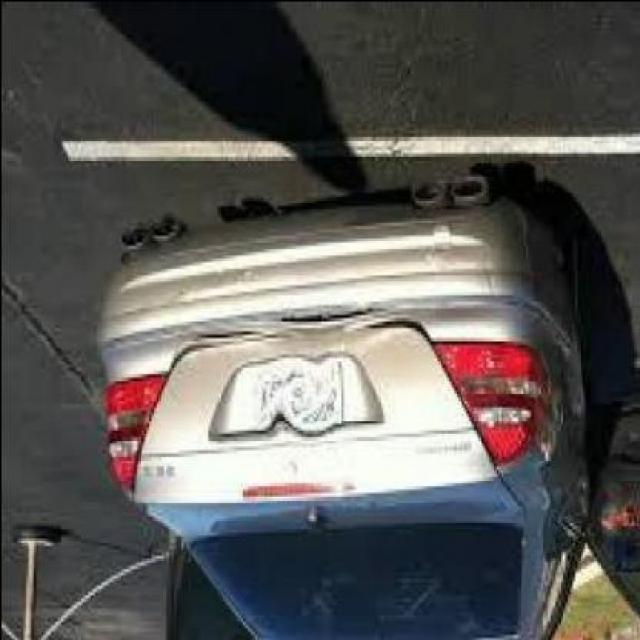damage: (256, 289, 378, 445), (424, 225, 458, 276)
